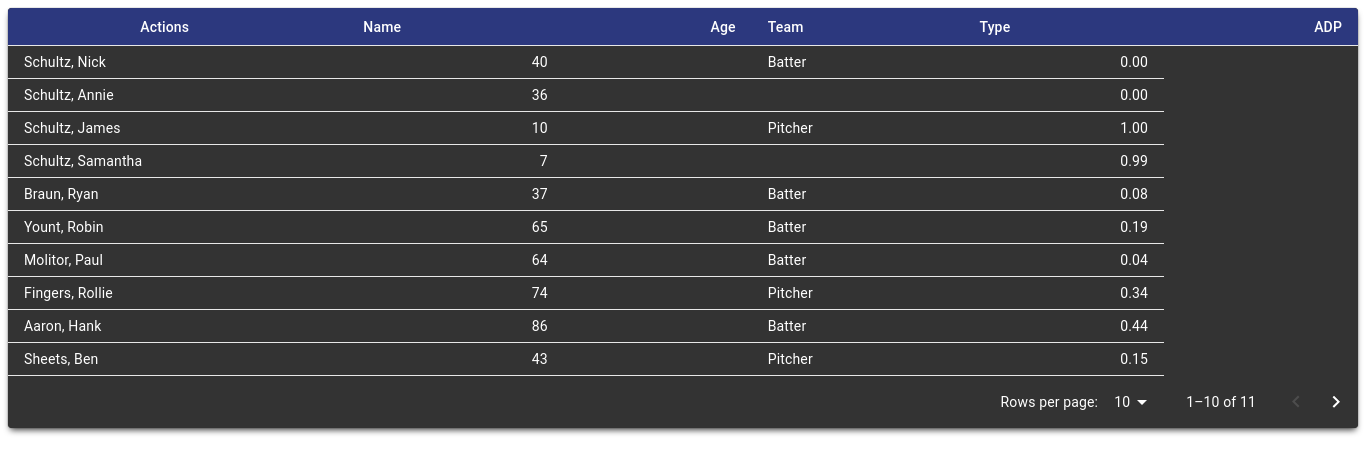
Test case: ParentTable › should sort in › descending order
Click the button "Name" at (382, 27), box [363,19,401,35]
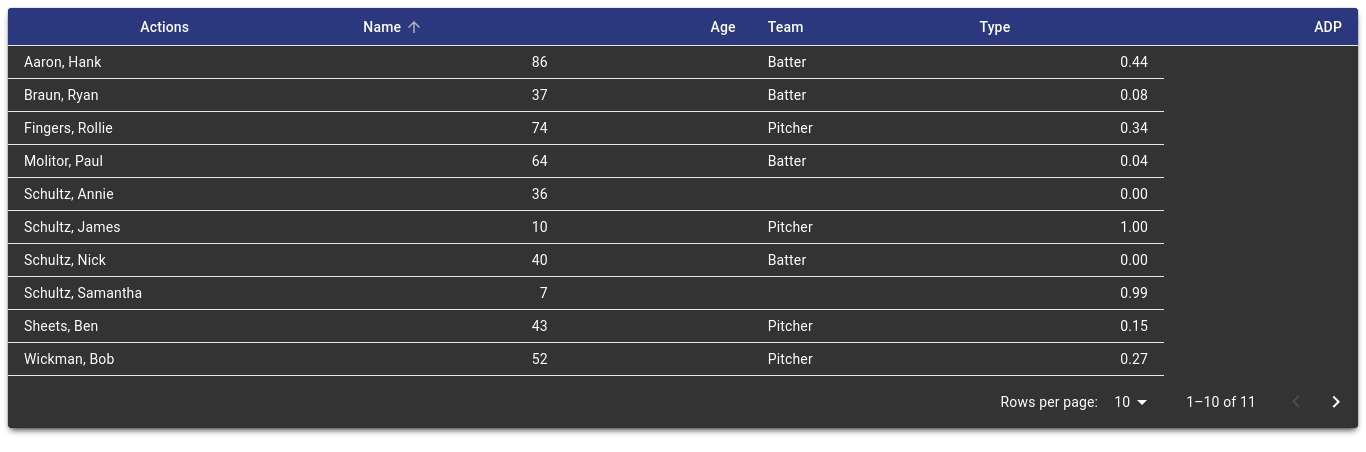
Click the button "Name sorted ascending" at (395, 27), box [363,15,427,39]
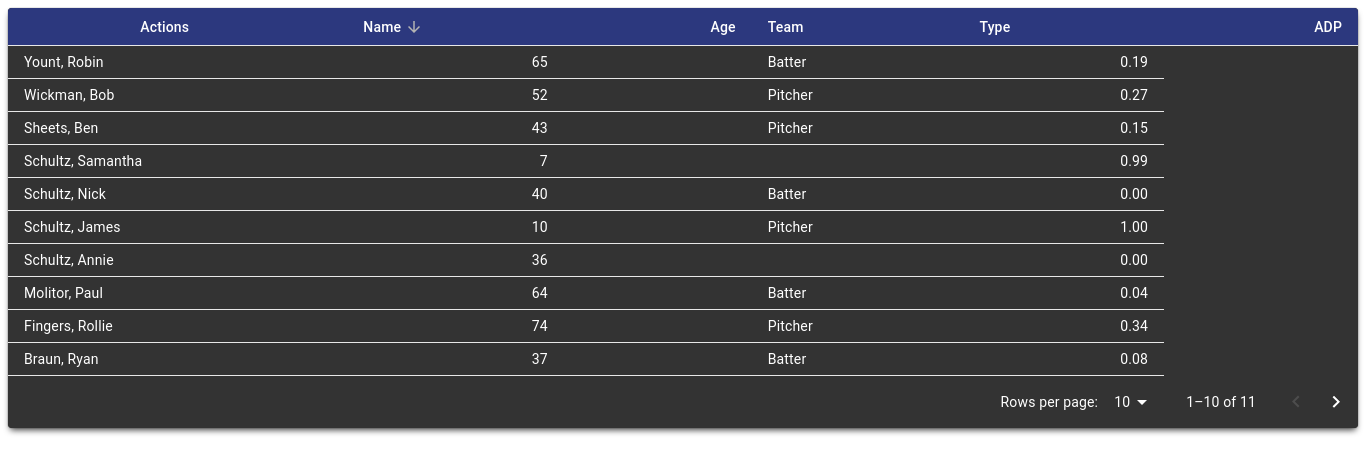
Expected: the row "Braun, Ryan 37 Batter 0.08" is shown, [8,343,1358,376]
Expected: the row "Yount, Robin 65 Batter 0.19" is shown, [8,46,1358,79]
